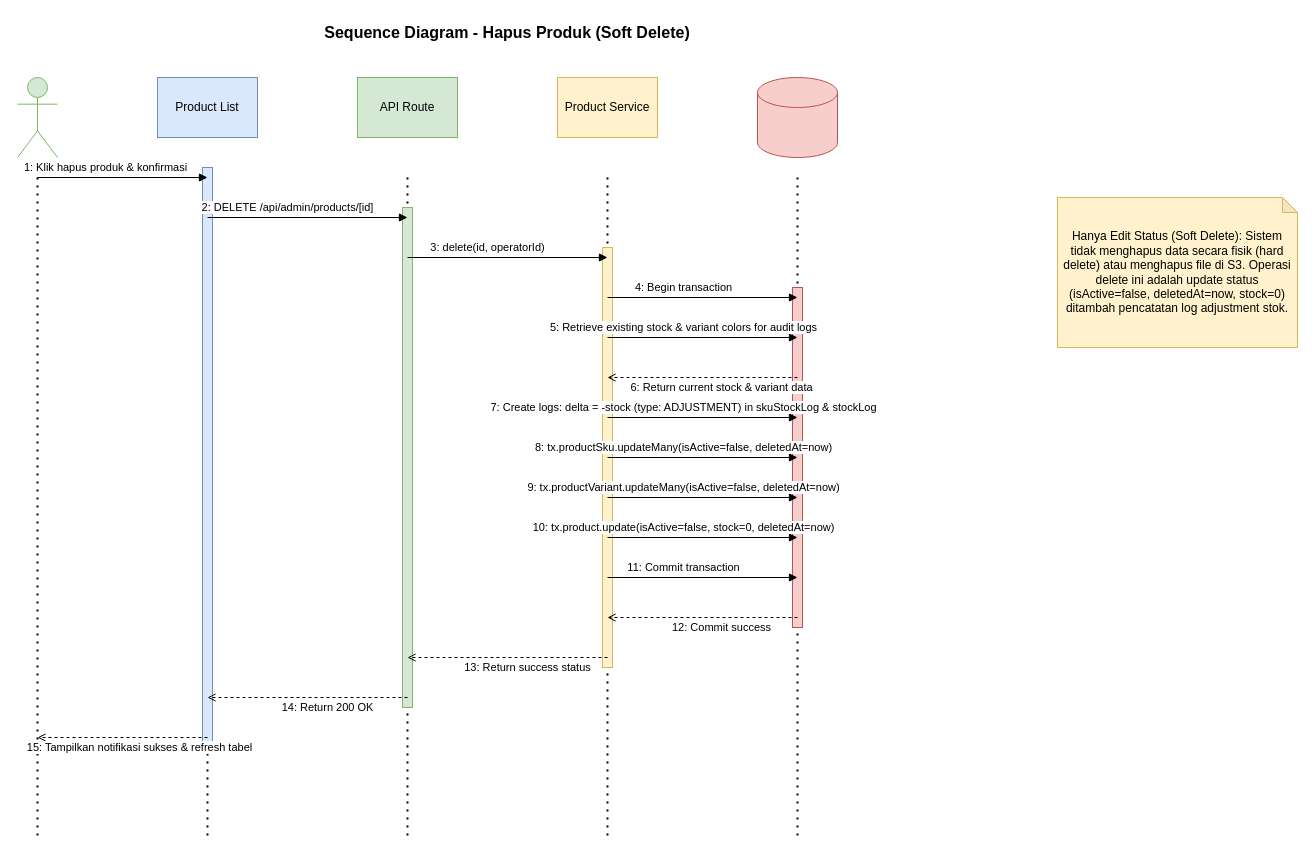
The diagram is 1315 pixels wide and 856 high, and some of its shapes have lost their labels. Each missing label, with the centre of its shape:
Admin: the point at 37,117
Database: the point at 797,117
